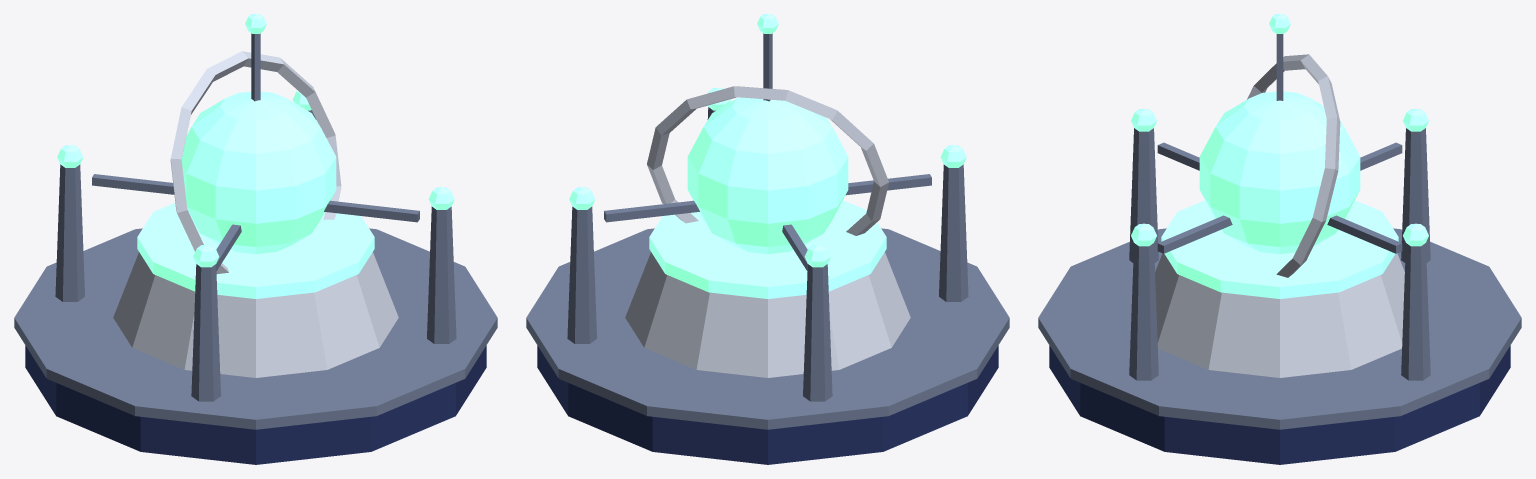
The model's file is core.glb.
3 views of the same model, side by side, from view 1: azimuth 30°, elevation 25°; view 2: azimuth 150°, elevation 25°; view 3: azimuth 270°, elevation 25° (orthographic).
Parts seen in each view (by area): view 1: Core; view 2: Core; view 3: Core.
Boxes of the visible parts, x1,y1,x2,y2 form: Core: [14, 14, 497, 464]; Core: [526, 14, 1009, 464]; Core: [1038, 14, 1521, 464].
Size of the model in its own units: 4.4 by 3.55 by 4.4.
